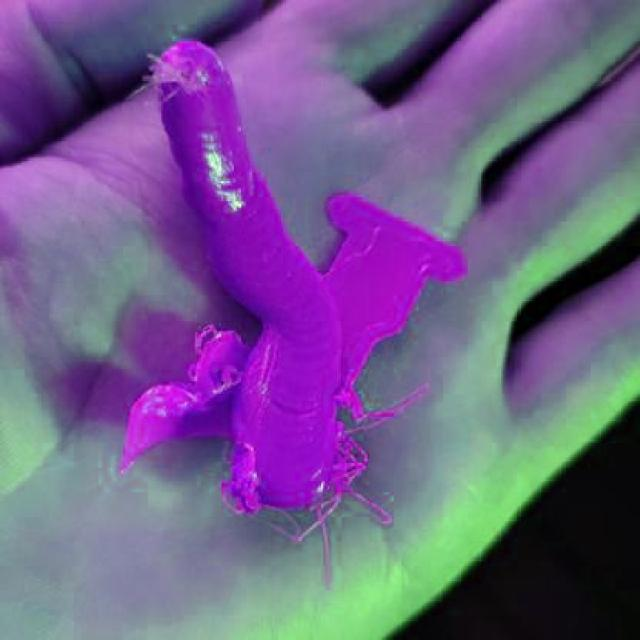Spaghetti: (185, 320, 428, 586)
